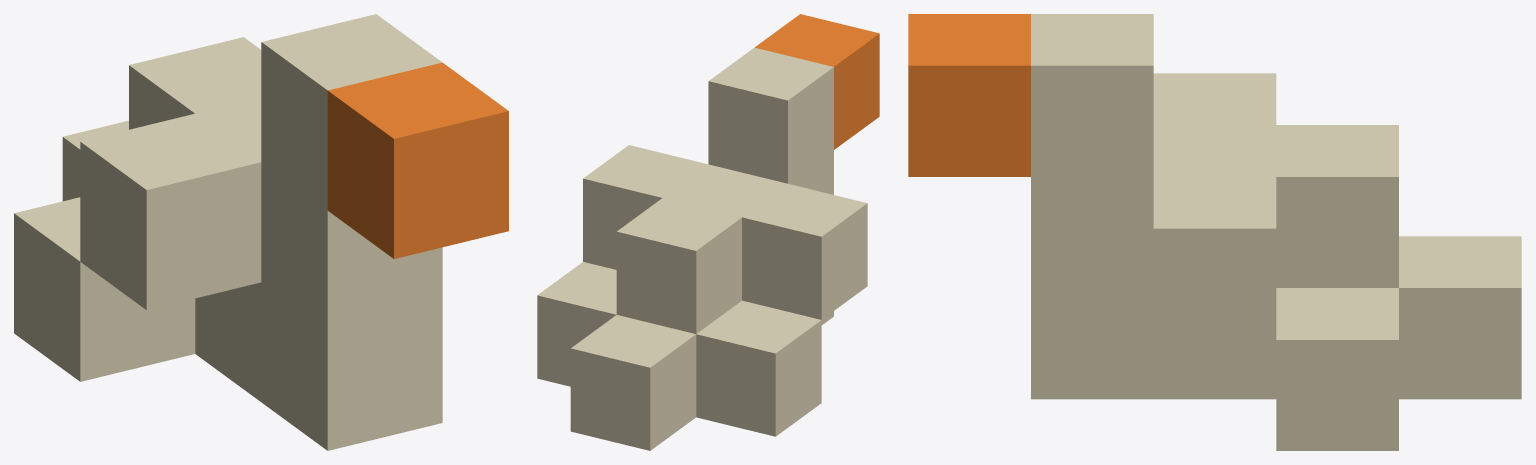
The model's file is Animal_Bird_Dove_01.glb.
3 renders of one model, left to right at view 1: azimuth 30°, elevation 25°; view 2: azimuth 150°, elevation 25°; view 3: azimuth 270°, elevation 25°, orthographic. The views are drawn at different scales.
Visible parts, largest first — view 1: Animal_Bird_Dove_01; view 2: Animal_Bird_Dove_01; view 3: Animal_Bird_Dove_01.
Boxes of the visible parts, box(x1,y1,x2,y2) form: Animal_Bird_Dove_01: box(14, 14, 508, 450); Animal_Bird_Dove_01: box(537, 14, 879, 450); Animal_Bird_Dove_01: box(908, 14, 1521, 450).
Bounding box in the file's own units: 0.3 × 0.3 × 0.5.
1 material, 1 textured.
